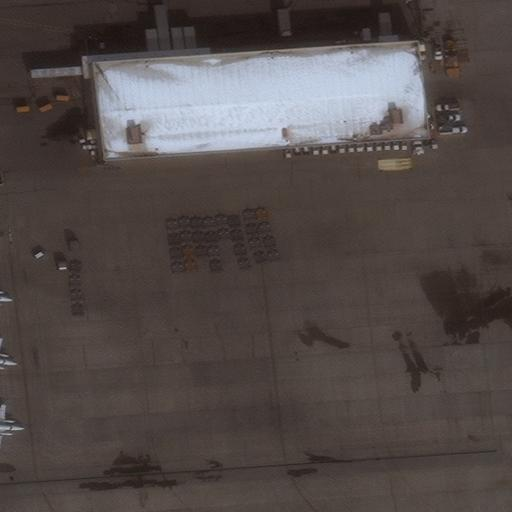Small Civil Transport: (0, 404, 25, 448), (0, 338, 17, 375)
